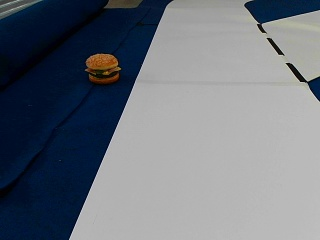burger: (84, 52, 120, 83)
